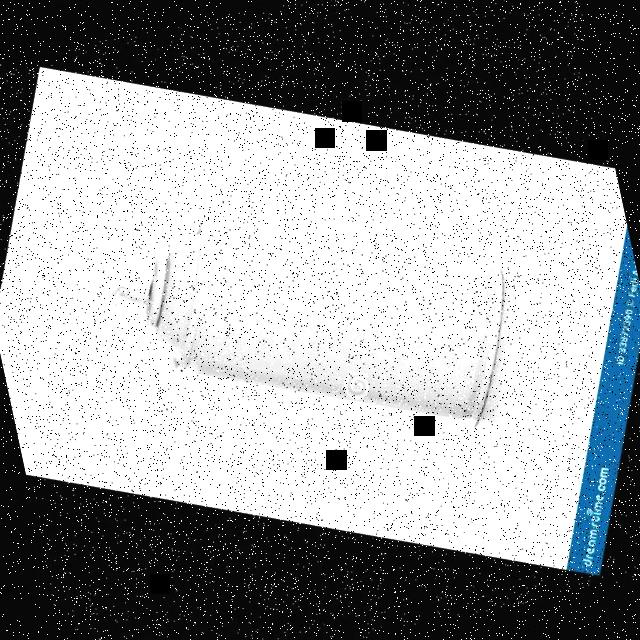chemical_spray_can: (35, 90, 582, 542)
